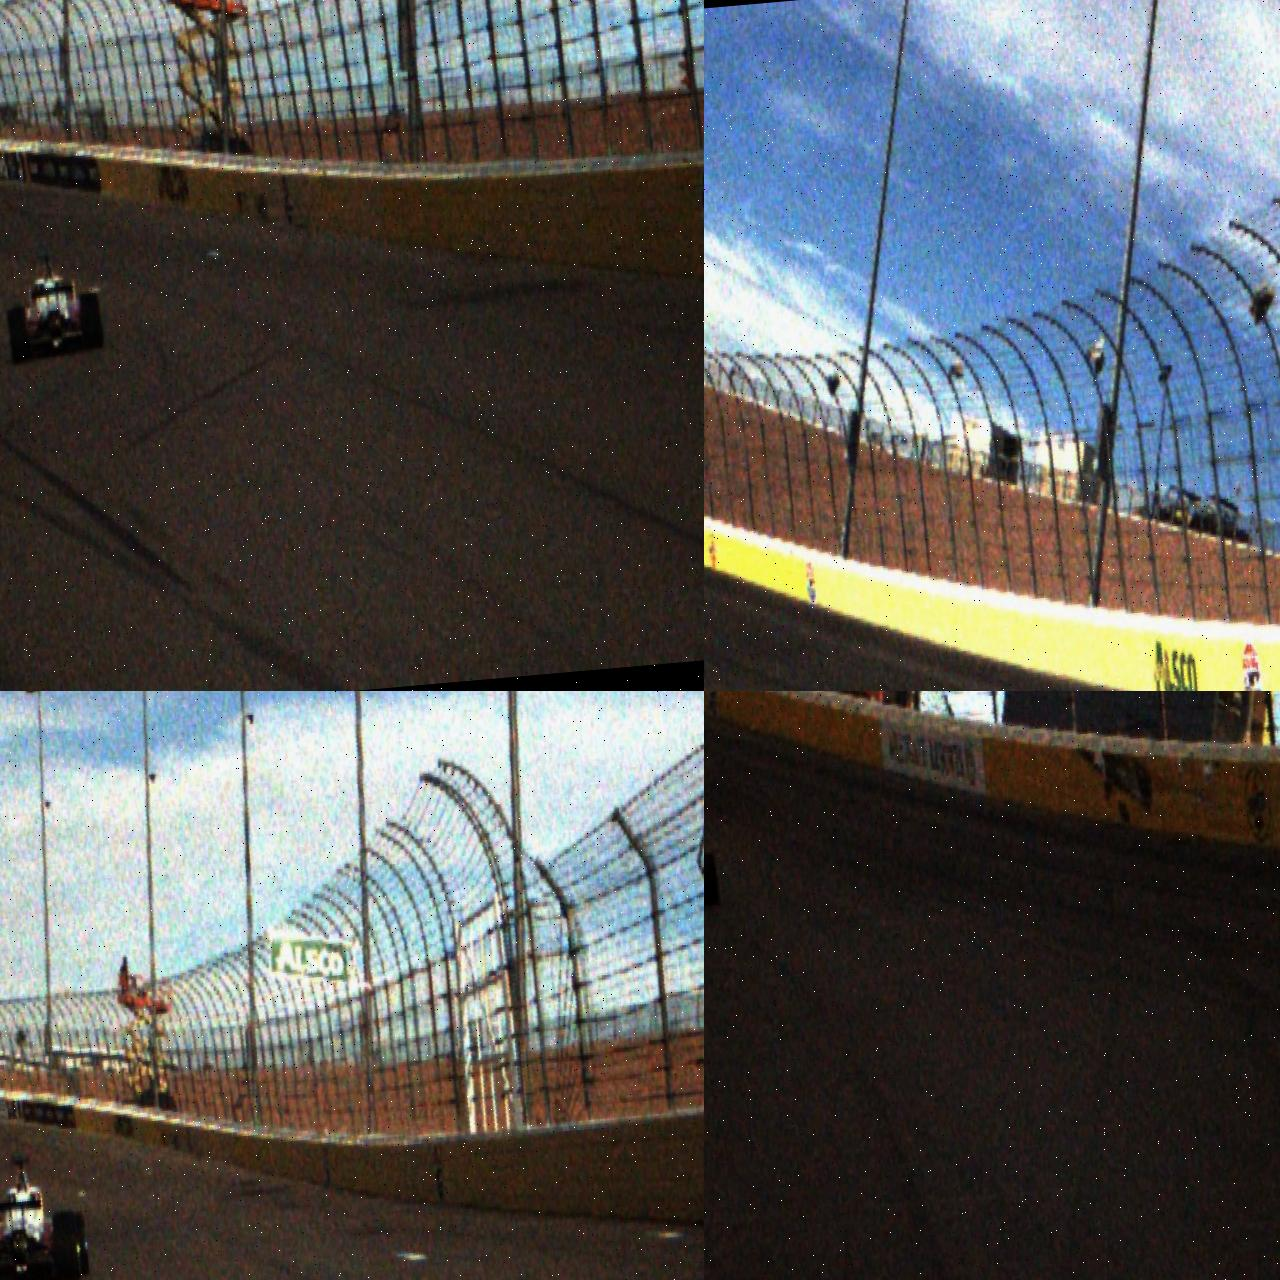AV: (1, 245, 104, 365), (0, 1148, 91, 1280)
Wheel: (52, 1210, 82, 1280), (67, 1213, 90, 1276), (80, 293, 103, 350), (7, 306, 29, 365), (704, 852, 721, 907)
